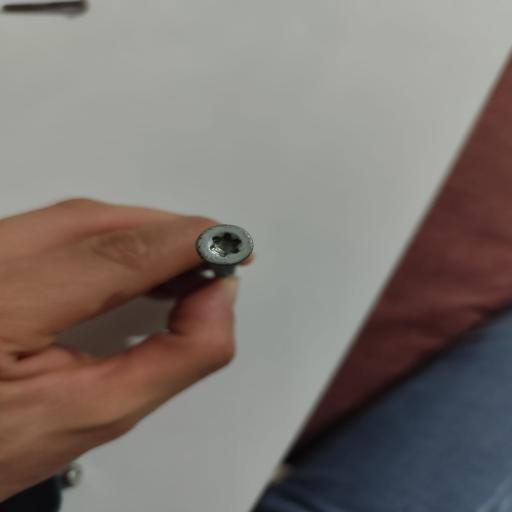Torx: (188, 215, 264, 267)
